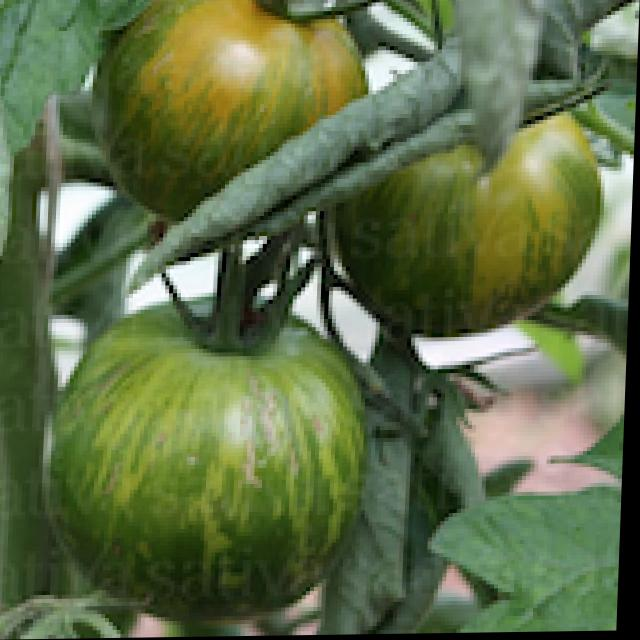yesil: (51, 262, 401, 603)
